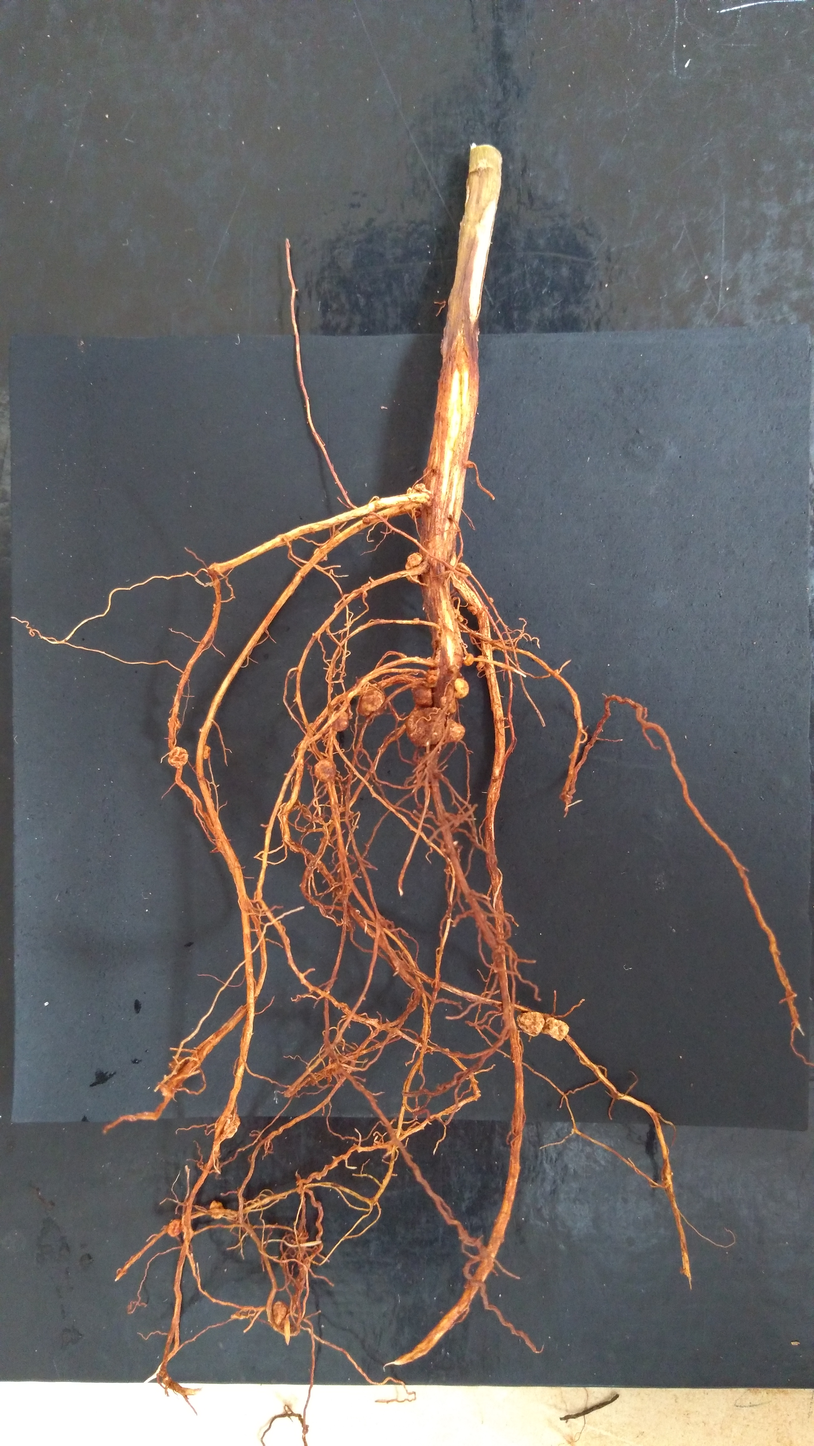nodule: (404, 704, 446, 749), (356, 686, 386, 717), (515, 1010, 546, 1038), (214, 1111, 241, 1139), (541, 1016, 569, 1042), (410, 678, 434, 708), (312, 757, 338, 783), (415, 756, 441, 781), (445, 716, 466, 745), (411, 483, 435, 507), (405, 552, 423, 584), (406, 487, 424, 518), (167, 746, 189, 768), (330, 709, 350, 732), (272, 1301, 289, 1326), (453, 560, 472, 580), (439, 694, 458, 714), (422, 666, 440, 687), (454, 677, 470, 700), (208, 1199, 225, 1220), (168, 1057, 191, 1072), (156, 1079, 174, 1098), (167, 1218, 184, 1238), (313, 544, 328, 562), (167, 715, 181, 731), (452, 605, 464, 623), (476, 655, 487, 673), (461, 652, 474, 666), (202, 743, 212, 760), (467, 605, 477, 616), (361, 517, 370, 525), (466, 459, 473, 469), (413, 617, 420, 624), (355, 909, 361, 915), (489, 596, 494, 603)
